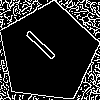I: (23, 28, 66, 69)
